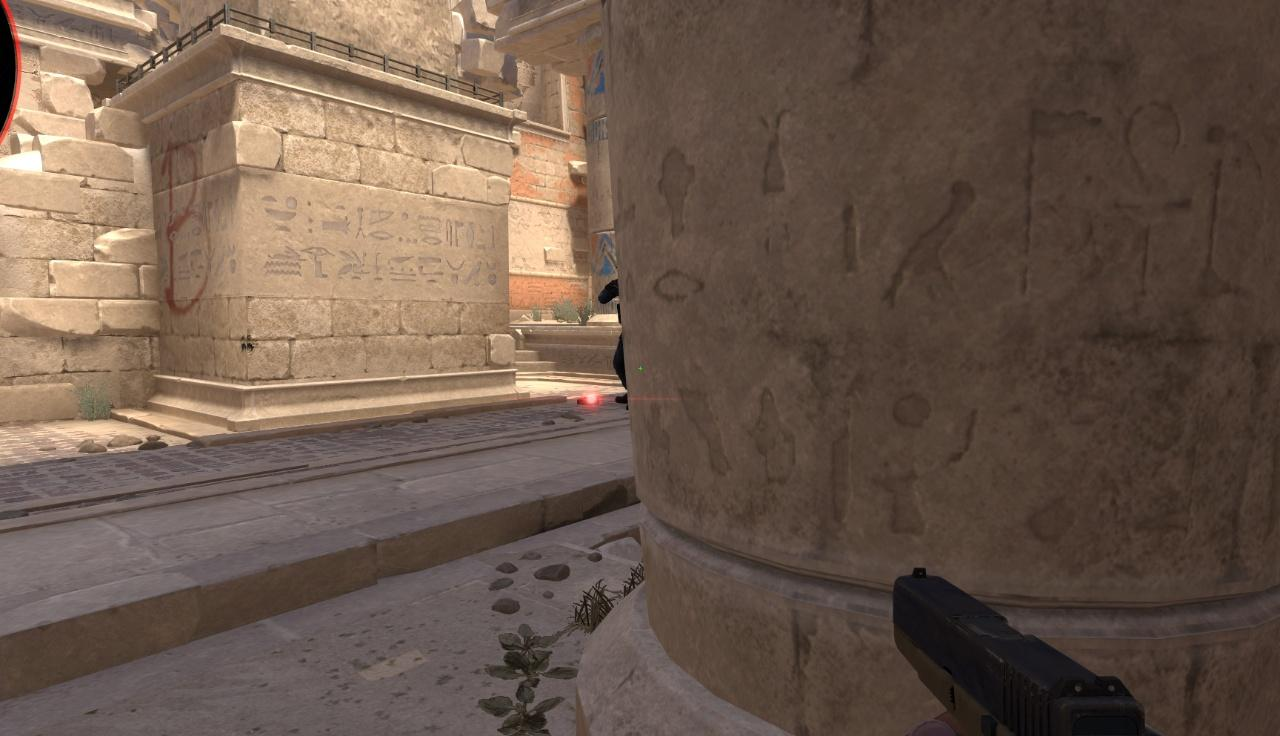pistol: (885, 553, 1156, 736)
